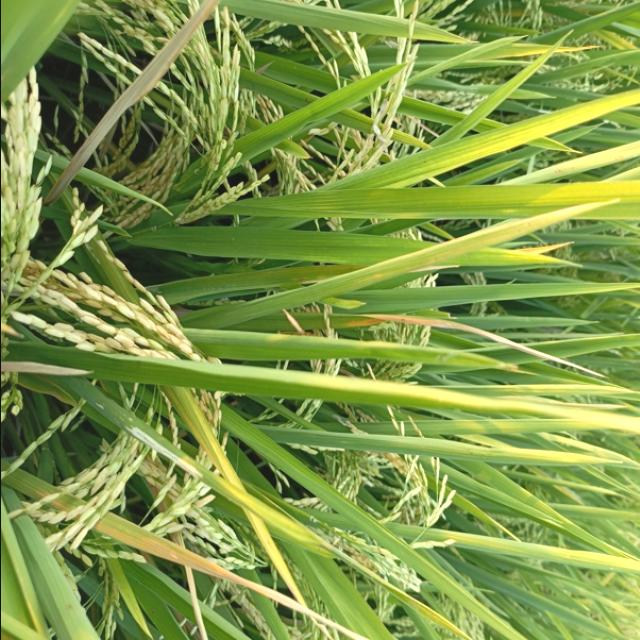Hawar Daun Bakteri: (341, 306, 609, 381)
Penggulung Daun: (278, 509, 492, 640), (87, 398, 206, 484)
